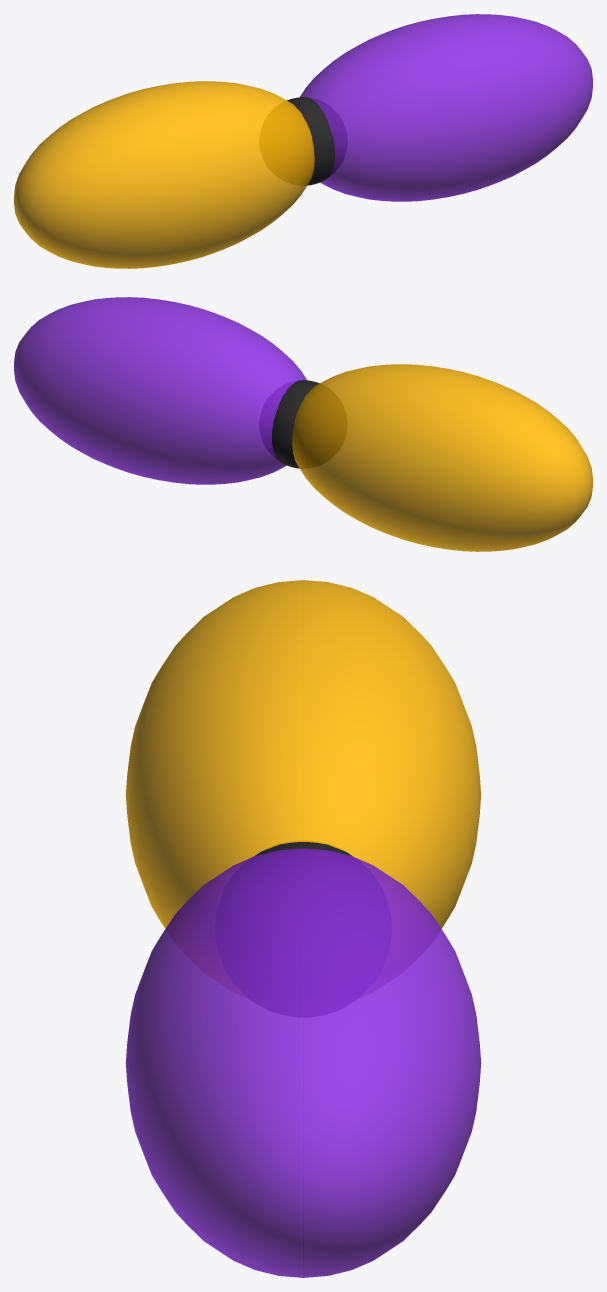
Rendered from sp-fixed.glb.
The picture shows the model from 3 angles, top to bottom: view 1: azimuth 30°, elevation 25°; view 2: azimuth 150°, elevation 25°; view 3: azimuth 270°, elevation 25°; orthographic projection. The views are drawn at different scales.
Size of the model in its own units: 2.06 by 0.56 by 0.56.
